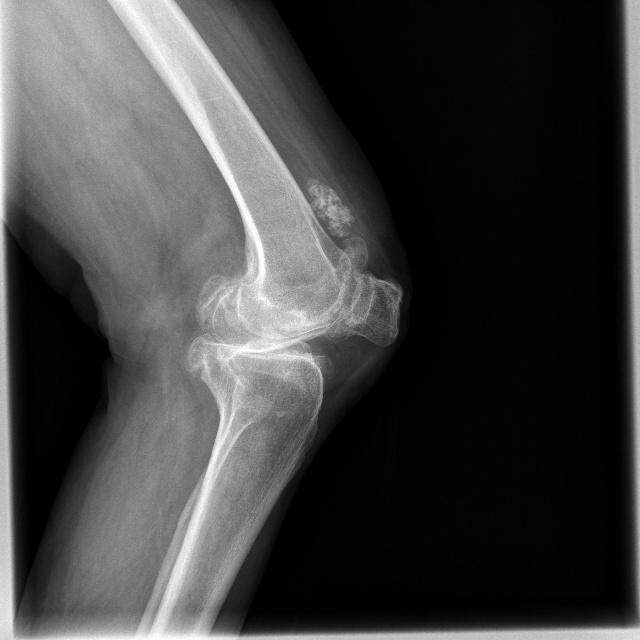Knee: (181, 263, 400, 402)
